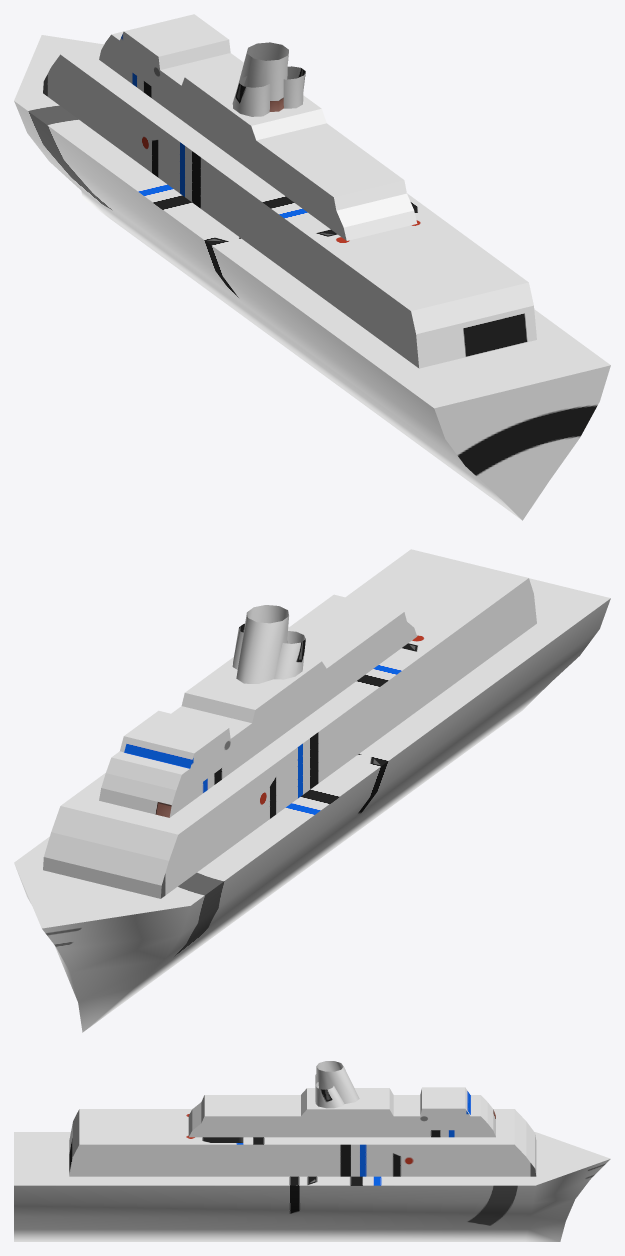
File: Ship.obj
The picture shows the model from 3 angles, top to bottom: view 1: azimuth 30°, elevation 25°; view 2: azimuth 150°, elevation 25°; view 3: azimuth 270°, elevation 25°; orthographic projection. The views are drawn at different scales.
Parts seen in each view (by area): view 1: Plane001; view 2: Plane001; view 3: Plane001.
Part boxes in pixels (box(x1,y1,x2,y2)): Plane001: box(14, 14, 610, 520); Plane001: box(14, 549, 610, 1032); Plane001: box(14, 1061, 610, 1241).
Size of the model in its own units: 105 by 161 by 495.
